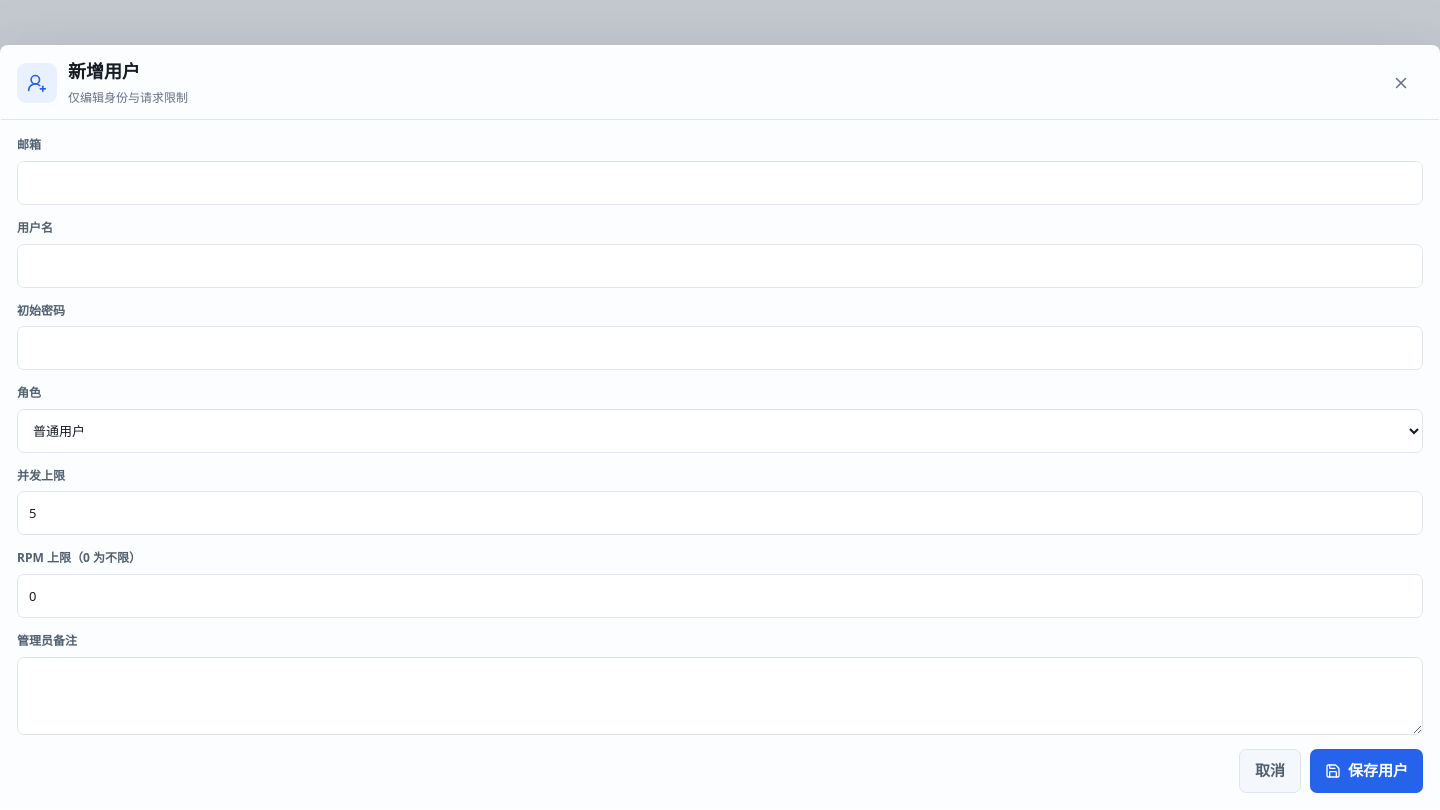
Test case: MobileAdminUsersView › keeps the create editor open when the API returns an invalid id
The width and height of the screenshot is (1440, 810).
Type "created@example.com" into the field with test id "user-editor-email". click: (720, 183)
box: [17,161,1423,205]
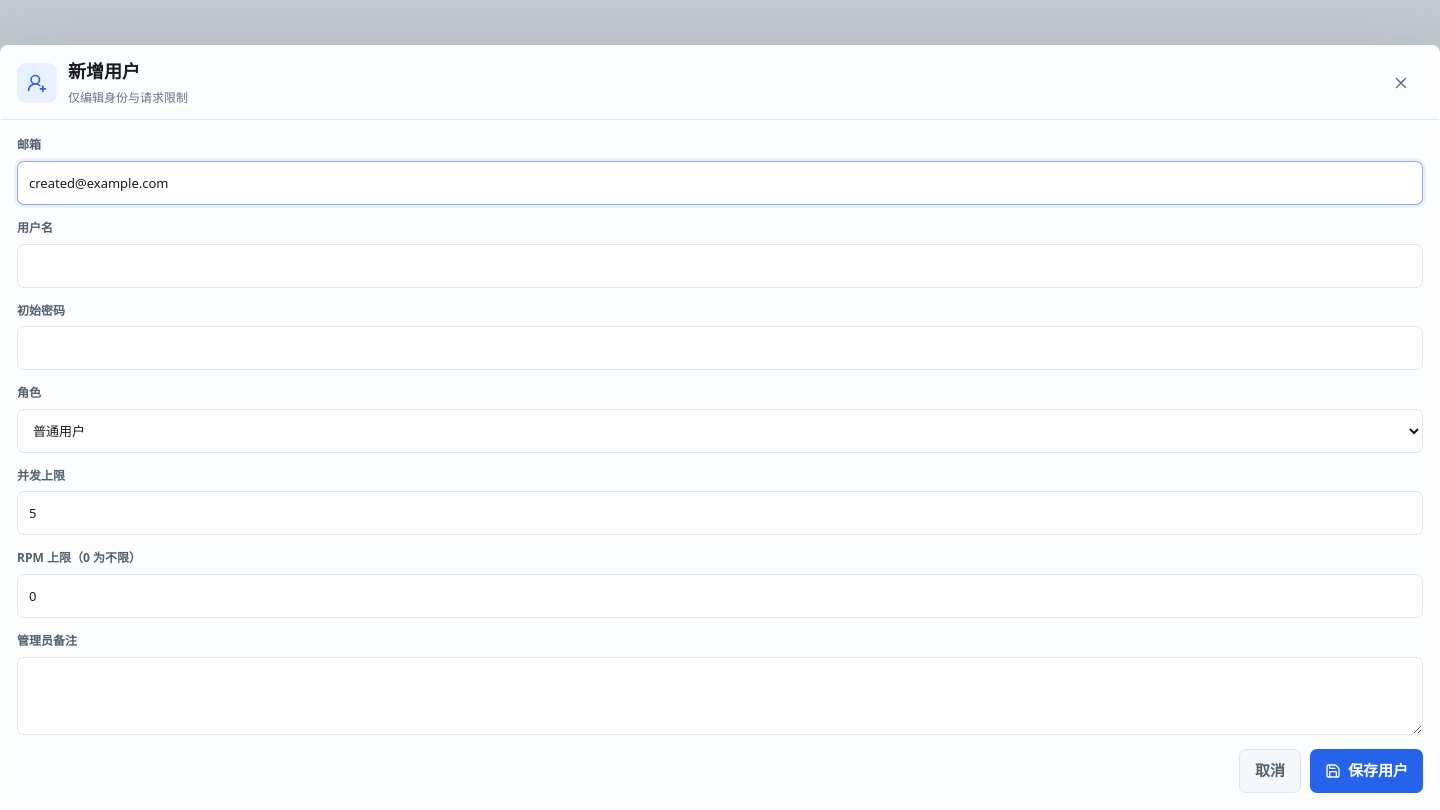
Type "created-password" into the password field with test id "user-editor-password". click: (720, 348)
box: [17,326,1423,370]
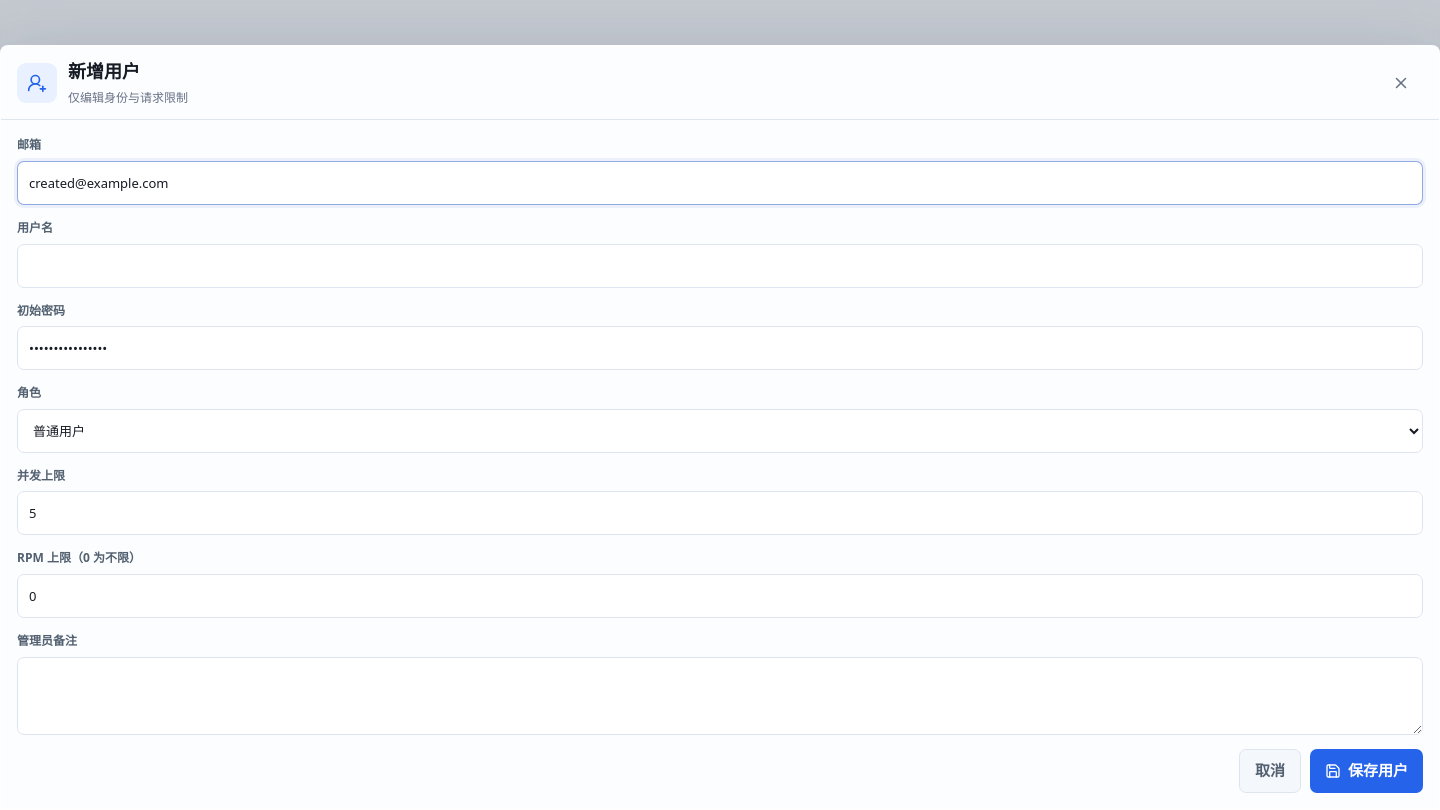
Submit the form with test id "user-editor-submit"
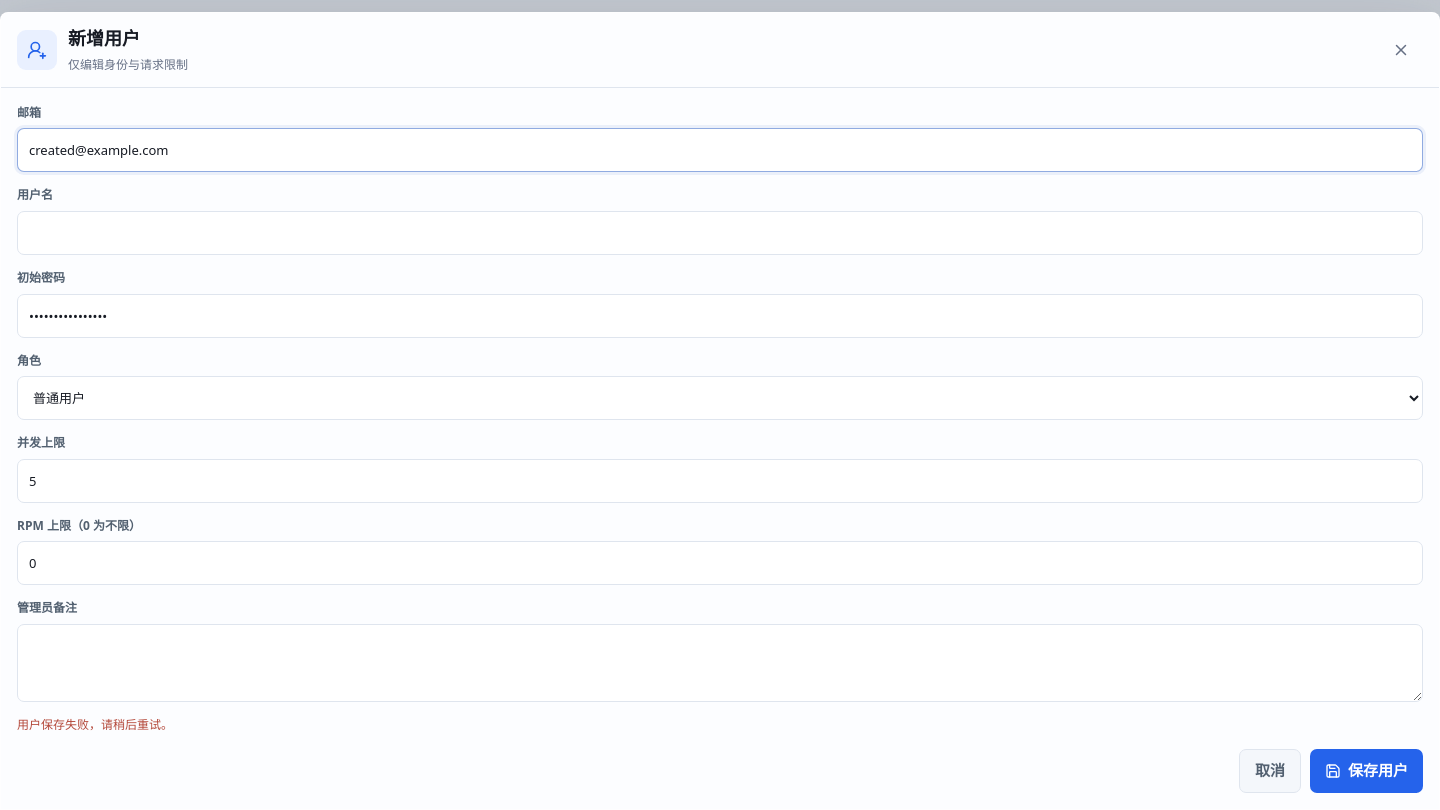
Check: the message "用户保存失败，请稍后重试。" is shown, box [17,716,173,733]
